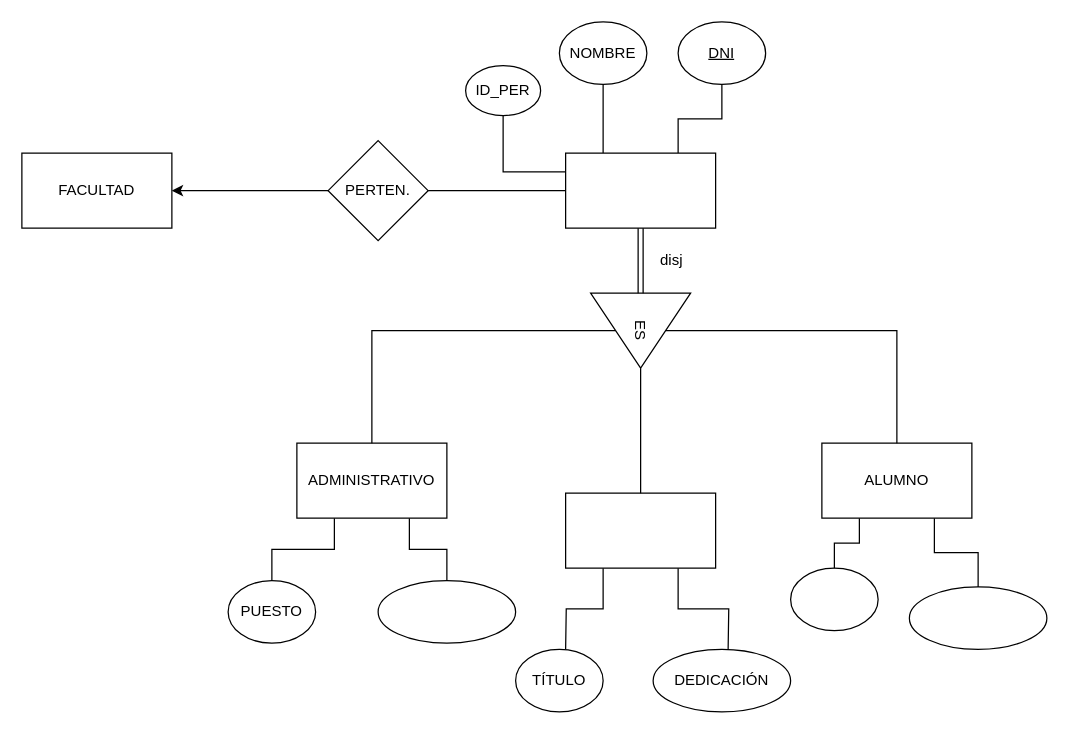
Some shapes in this 1069 by 734 pixel diagram are drawn without their labels. Here are the shapes that lost their labels. From the top down, the centre of each, then its label:
At (x=640, y=190): "PERSONA".
At (x=640, y=530): "PROFESOR".
At (x=446, y=611): "ANTIGUEDAD".
At (x=833, y=599): "CARRERA".
At (x=977, y=617): "AÑO_INGRESO".
